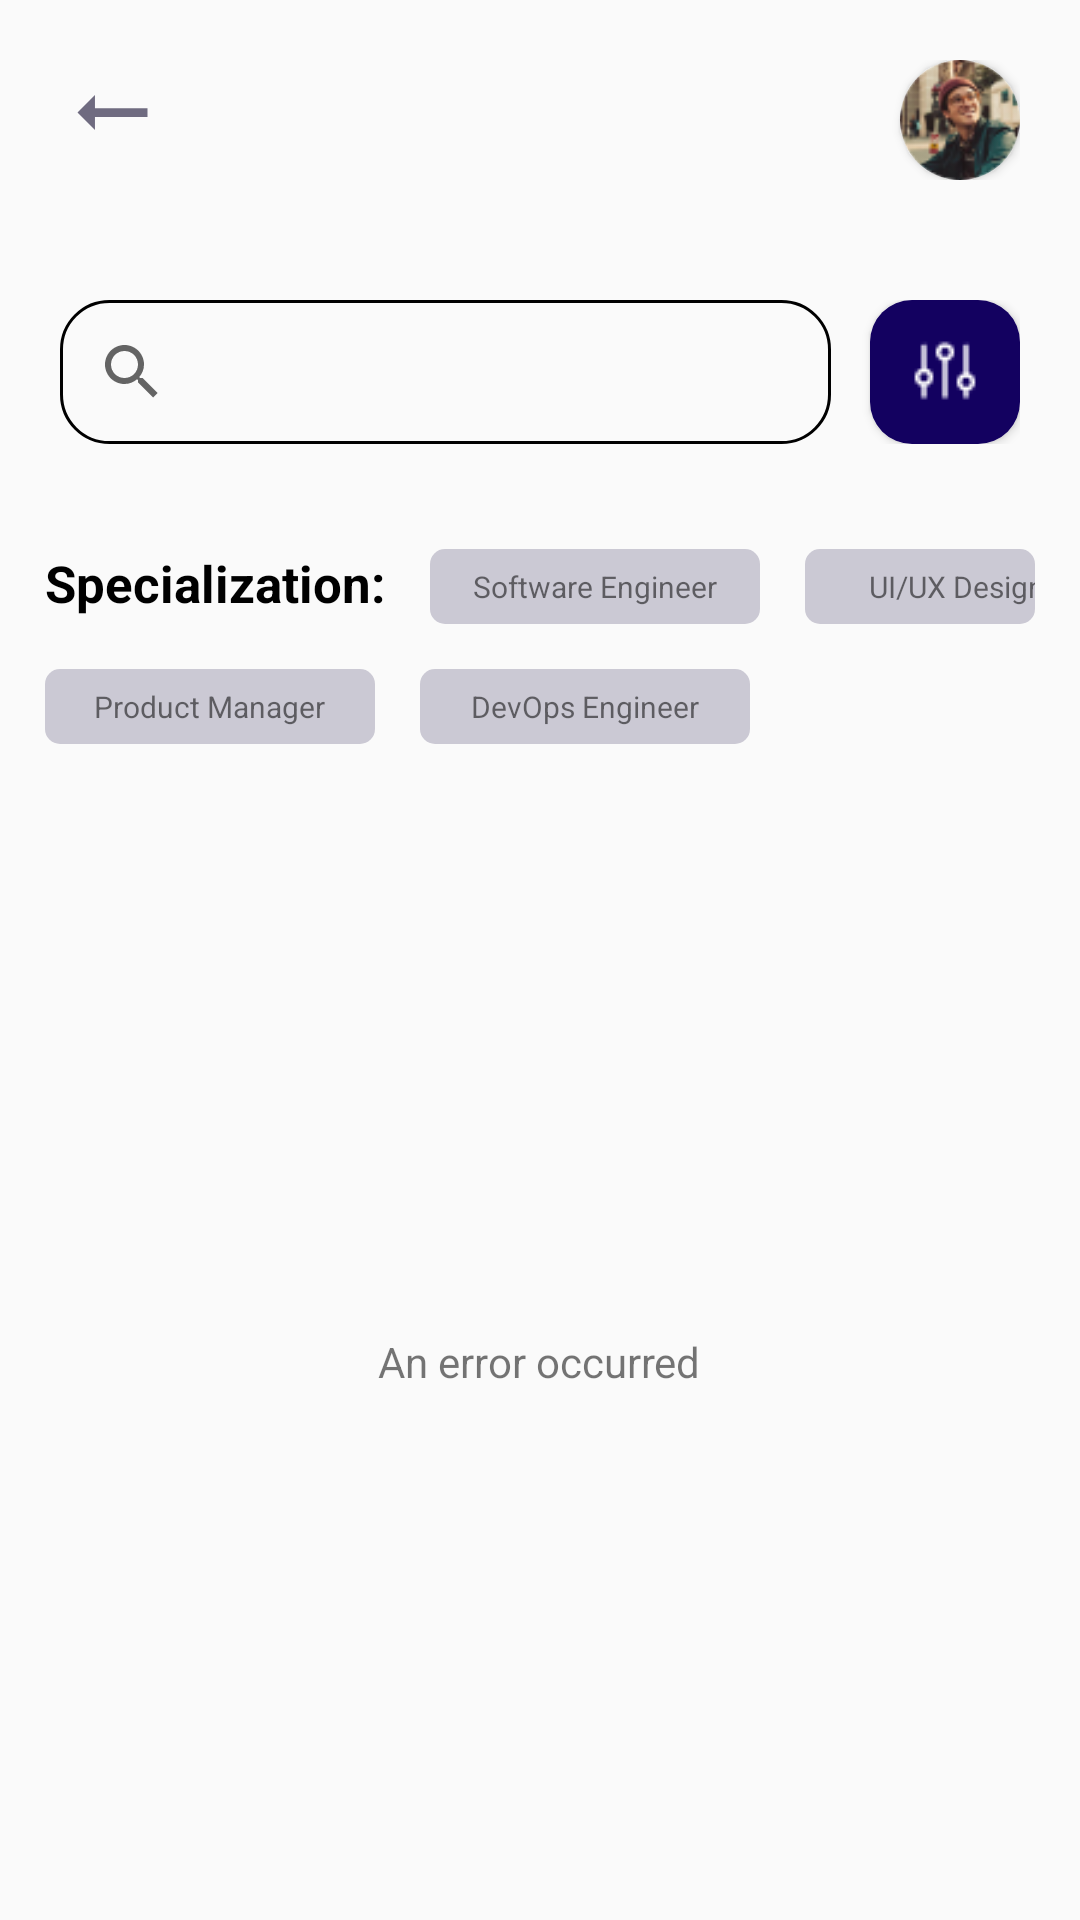

Icons on this 1080px×1920px Android screen, each with its box as (x1, y1, x2, y2):
filter: (870, 300, 1020, 444)
profile demo: (900, 60, 1020, 180)
